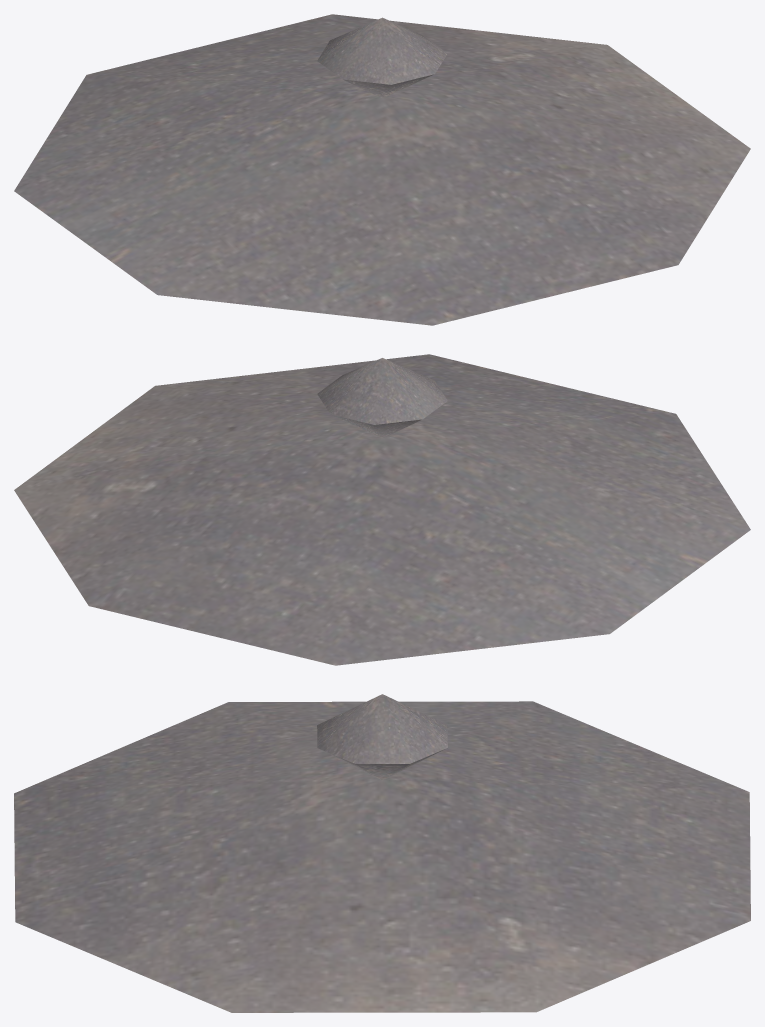
File: M_Home_Garden_Pan_Cooking_Pan_Lit.fbx
The picture shows the model from 3 angles, top to bottom: view 1: azimuth 30°, elevation 25°; view 2: azimuth 150°, elevation 25°; view 3: azimuth 270°, elevation 25°; orthographic projection. The views are drawn at different scales.
Visible parts, largest first — view 1: M_Home_Garden_Pan_Cooking_Pan_Lit; view 2: M_Home_Garden_Pan_Cooking_Pan_Lit; view 3: M_Home_Garden_Pan_Cooking_Pan_Lit.
Part boxes in pixels (box(x1,y1,x2,y2)): M_Home_Garden_Pan_Cooking_Pan_Lit: box(14, 14, 750, 325); M_Home_Garden_Pan_Cooking_Pan_Lit: box(14, 354, 750, 665); M_Home_Garden_Pan_Cooking_Pan_Lit: box(14, 694, 750, 1012).
Size of the model in its own units: 25.55 by 6.24 by 25.55.
